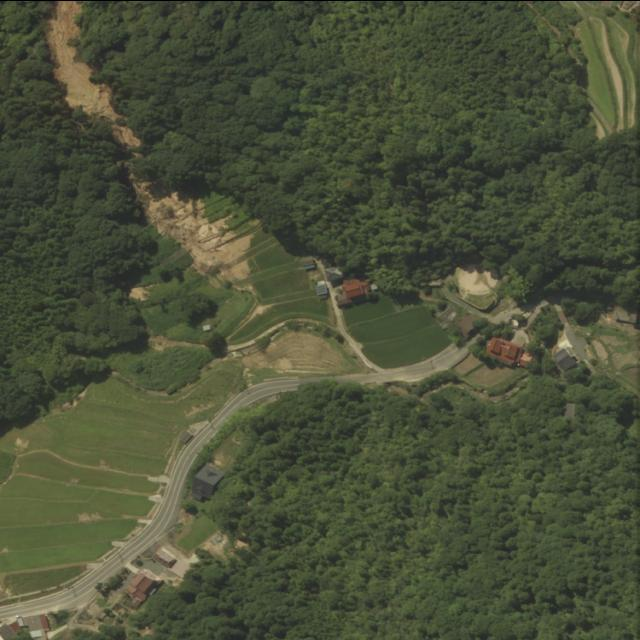landslide: (134, 180, 259, 279), (46, 0, 119, 120), (111, 121, 139, 145)
